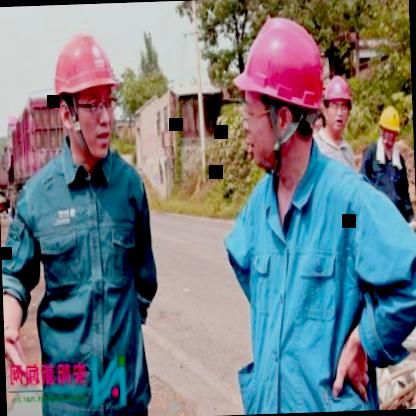helmet: (228, 5, 326, 180), (46, 20, 130, 164), (320, 70, 356, 141), (377, 102, 402, 150)
